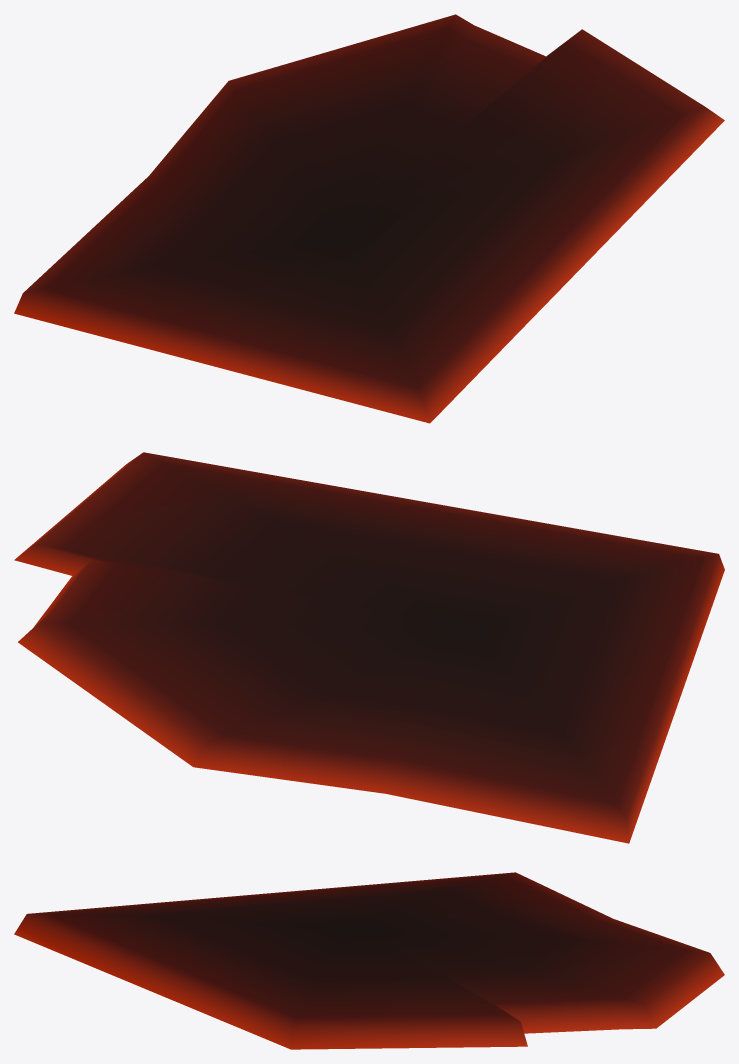
The model's file is raft_m12.glb.
The picture shows the model from 3 angles, top to bottom: view 1: azimuth 30°, elevation 25°; view 2: azimuth 150°, elevation 25°; view 3: azimuth 270°, elevation 25°; orthographic projection. The views are drawn at different scales.
Parts seen in each view (by area): view 1: raft; view 2: raft; view 3: raft.
Part boxes in pixels (x1,y1,x2,y2): raft: (14,14,724,423); raft: (14,452,724,843); raft: (14,872,724,1049).
Bounding box in the file's own units: 1.42 × 0.3385 × 1.46.
